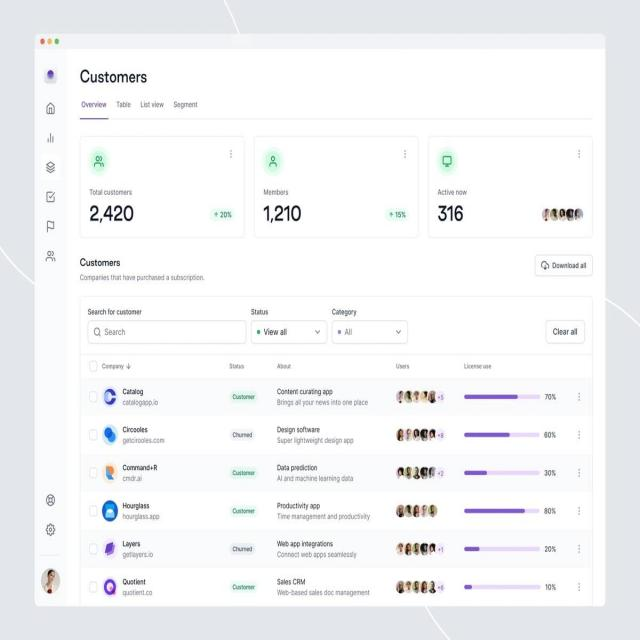button: (536, 253, 593, 276), (547, 319, 586, 344)
input: (88, 320, 248, 346)
select: (250, 320, 328, 346), (332, 319, 409, 343)
